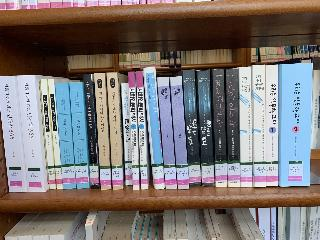book-spine: (279, 62, 312, 187), (17, 74, 45, 193), (0, 75, 26, 194), (143, 67, 165, 190), (157, 77, 177, 190), (55, 82, 76, 189), (69, 82, 90, 189), (183, 69, 202, 187), (196, 70, 215, 187), (170, 76, 189, 190), (106, 72, 123, 190), (94, 73, 111, 190), (212, 69, 228, 187), (83, 73, 99, 190), (40, 79, 56, 190), (239, 67, 253, 187), (48, 78, 63, 189), (253, 65, 266, 187), (226, 69, 239, 187), (266, 65, 278, 187), (128, 72, 140, 191), (136, 71, 148, 190), (121, 83, 132, 186)
